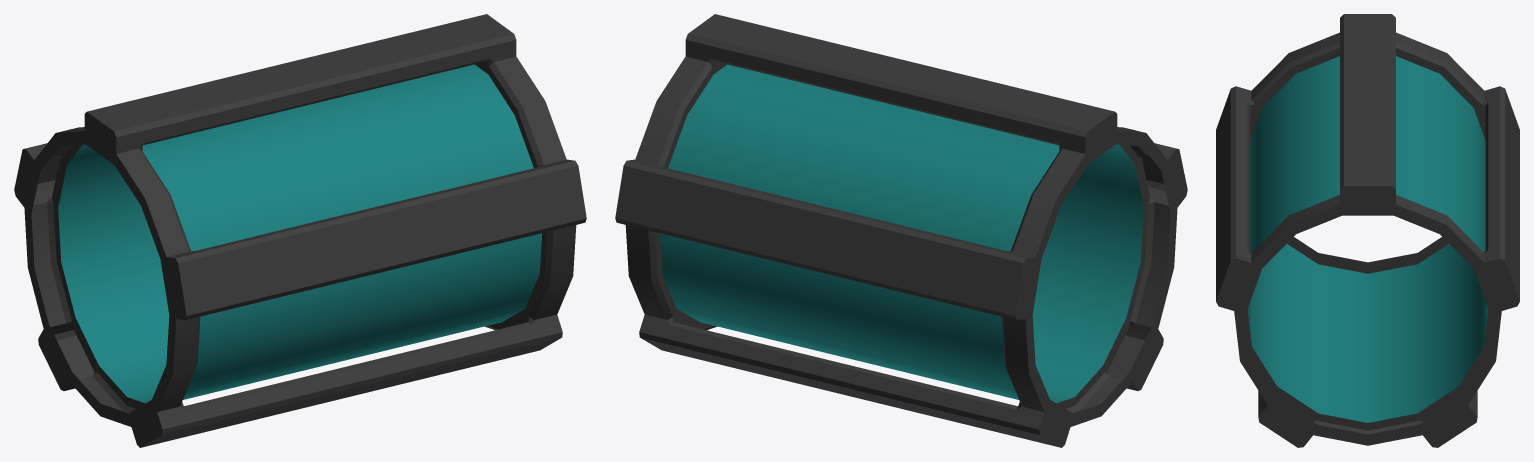
Rendered from Metro.FBX.
3 views of the same model, side by side, from view 1: azimuth 30°, elevation 25°; view 2: azimuth 150°, elevation 25°; view 3: azimuth 270°, elevation 25° (orthographic). The views are drawn at different scales.
Parts seen in each view (by area): view 1: Metro; view 2: Metro; view 3: Metro.
Part boxes in pixels (left/top/right/bottom): Metro: left=14, top=14, right=586, bottom=447; Metro: left=615, top=14, right=1187, bottom=447; Metro: left=1216, top=14, right=1519, bottom=447.
Size of the model in its own units: 394 by 280 by 294.
